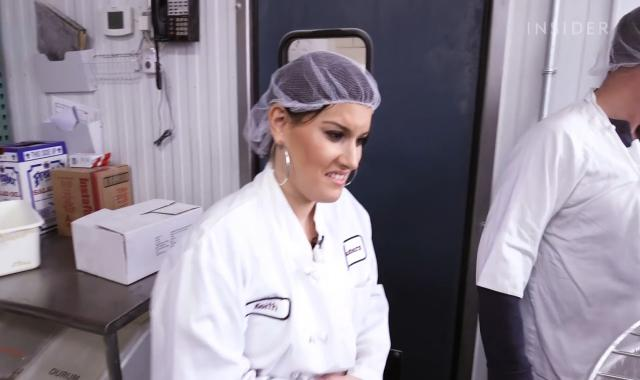hairnet: (241, 50, 385, 155)
